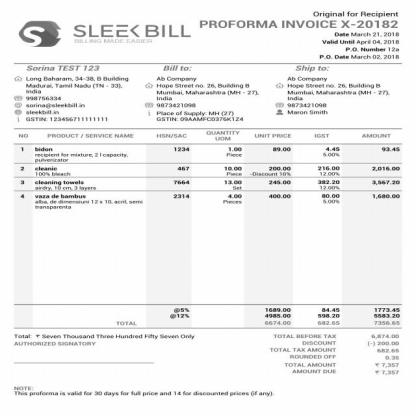Paragraph: (198, 10, 404, 62), (113, 304, 404, 328), (266, 332, 403, 377), (155, 76, 260, 122), (25, 76, 130, 122), (286, 75, 392, 116), (12, 385, 278, 398), (11, 332, 198, 348), (25, 64, 100, 72), (73, 38, 154, 44), (294, 64, 331, 73), (162, 64, 192, 72)
Table: (12, 128, 403, 212)
